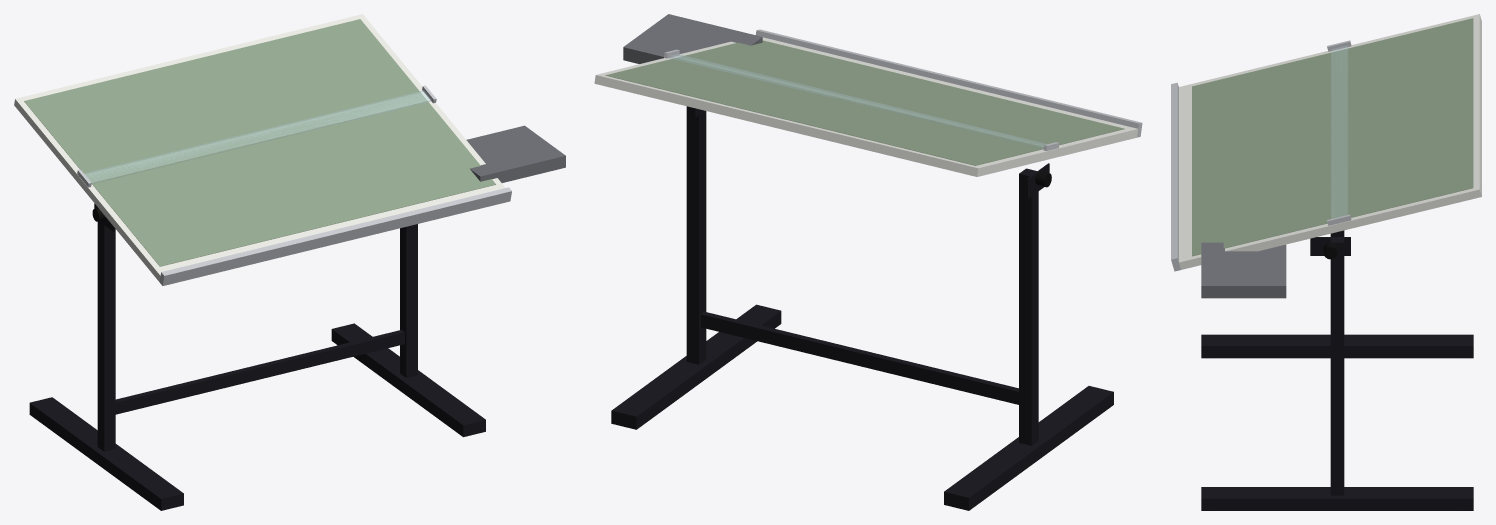
Rendered from 090_drafting_table.glb.
The picture shows the model from 3 angles, left to right: view 1: azimuth 30°, elevation 25°; view 2: azimuth 150°, elevation 25°; view 3: azimuth 270°, elevation 25°; orthographic projection. The views are drawn at different scales.
Visible parts, largest first — view 1: 014_vinyl_board_cover, 013_drawing_board, 015_pencil_ledge, 000_foot, 012_foot_stretcher, 016_parallel_straight_edge, 001_upright, 006_foot, 019_side_tool_tray, 007_upright; view 2: 014_vinyl_board_cover, 013_drawing_board, 000_foot, 012_foot_stretcher, 001_upright, 007_upright, 006_foot, 019_side_tool_tray, 015_pencil_ledge, 016_parallel_straight_edge; view 3: 014_vinyl_board_cover, 013_drawing_board, 000_foot, 006_foot, 019_side_tool_tray, 007_upright, 016_parallel_straight_edge, 015_pencil_ledge, 008_tilt_quadrant.
Boxes of the visible parts, box(x1,y1,x2,y2) form: 014_vinyl_board_cover: box(24, 19, 495, 266); 013_drawing_board: box(14, 14, 505, 281); 015_pencil_ledge: box(159, 187, 511, 285); 000_foot: box(29, 397, 183, 510); 012_foot_stretcher: box(99, 330, 404, 416); 016_parallel_straight_edge: box(81, 90, 431, 183); 001_upright: box(97, 220, 115, 451); 006_foot: box(331, 323, 485, 437); 019_side_tool_tray: box(466, 125, 565, 182); 007_upright: box(400, 224, 417, 377); 014_vinyl_board_cover: box(605, 40, 1124, 165); 013_drawing_board: box(594, 37, 1138, 176); 000_foot: box(944, 386, 1113, 510); 012_foot_stretcher: box(701, 311, 1036, 408); 001_upright: box(1019, 168, 1038, 445); 007_upright: box(686, 106, 706, 364); 006_foot: box(611, 304, 781, 429); 019_side_tool_tray: box(623, 14, 762, 63); 015_pencil_ledge: box(755, 29, 1142, 137); 016_parallel_straight_edge: box(669, 54, 1046, 149); 014_vinyl_board_cover: box(1192, 18, 1473, 256); 013_drawing_board: box(1179, 14, 1481, 269); 000_foot: box(1201, 334, 1473, 358); 006_foot: box(1201, 487, 1473, 510); 019_side_tool_tray: box(1201, 242, 1286, 298); 007_upright: box(1330, 237, 1344, 495); 016_parallel_straight_edge: box(1331, 46, 1348, 218); 015_pencil_ledge: box(1171, 82, 1180, 271); 008_tilt_quadrant: box(1310, 237, 1350, 255).
Bounding box in the file's own units: 1.46 × 1.06 × 0.9135.
